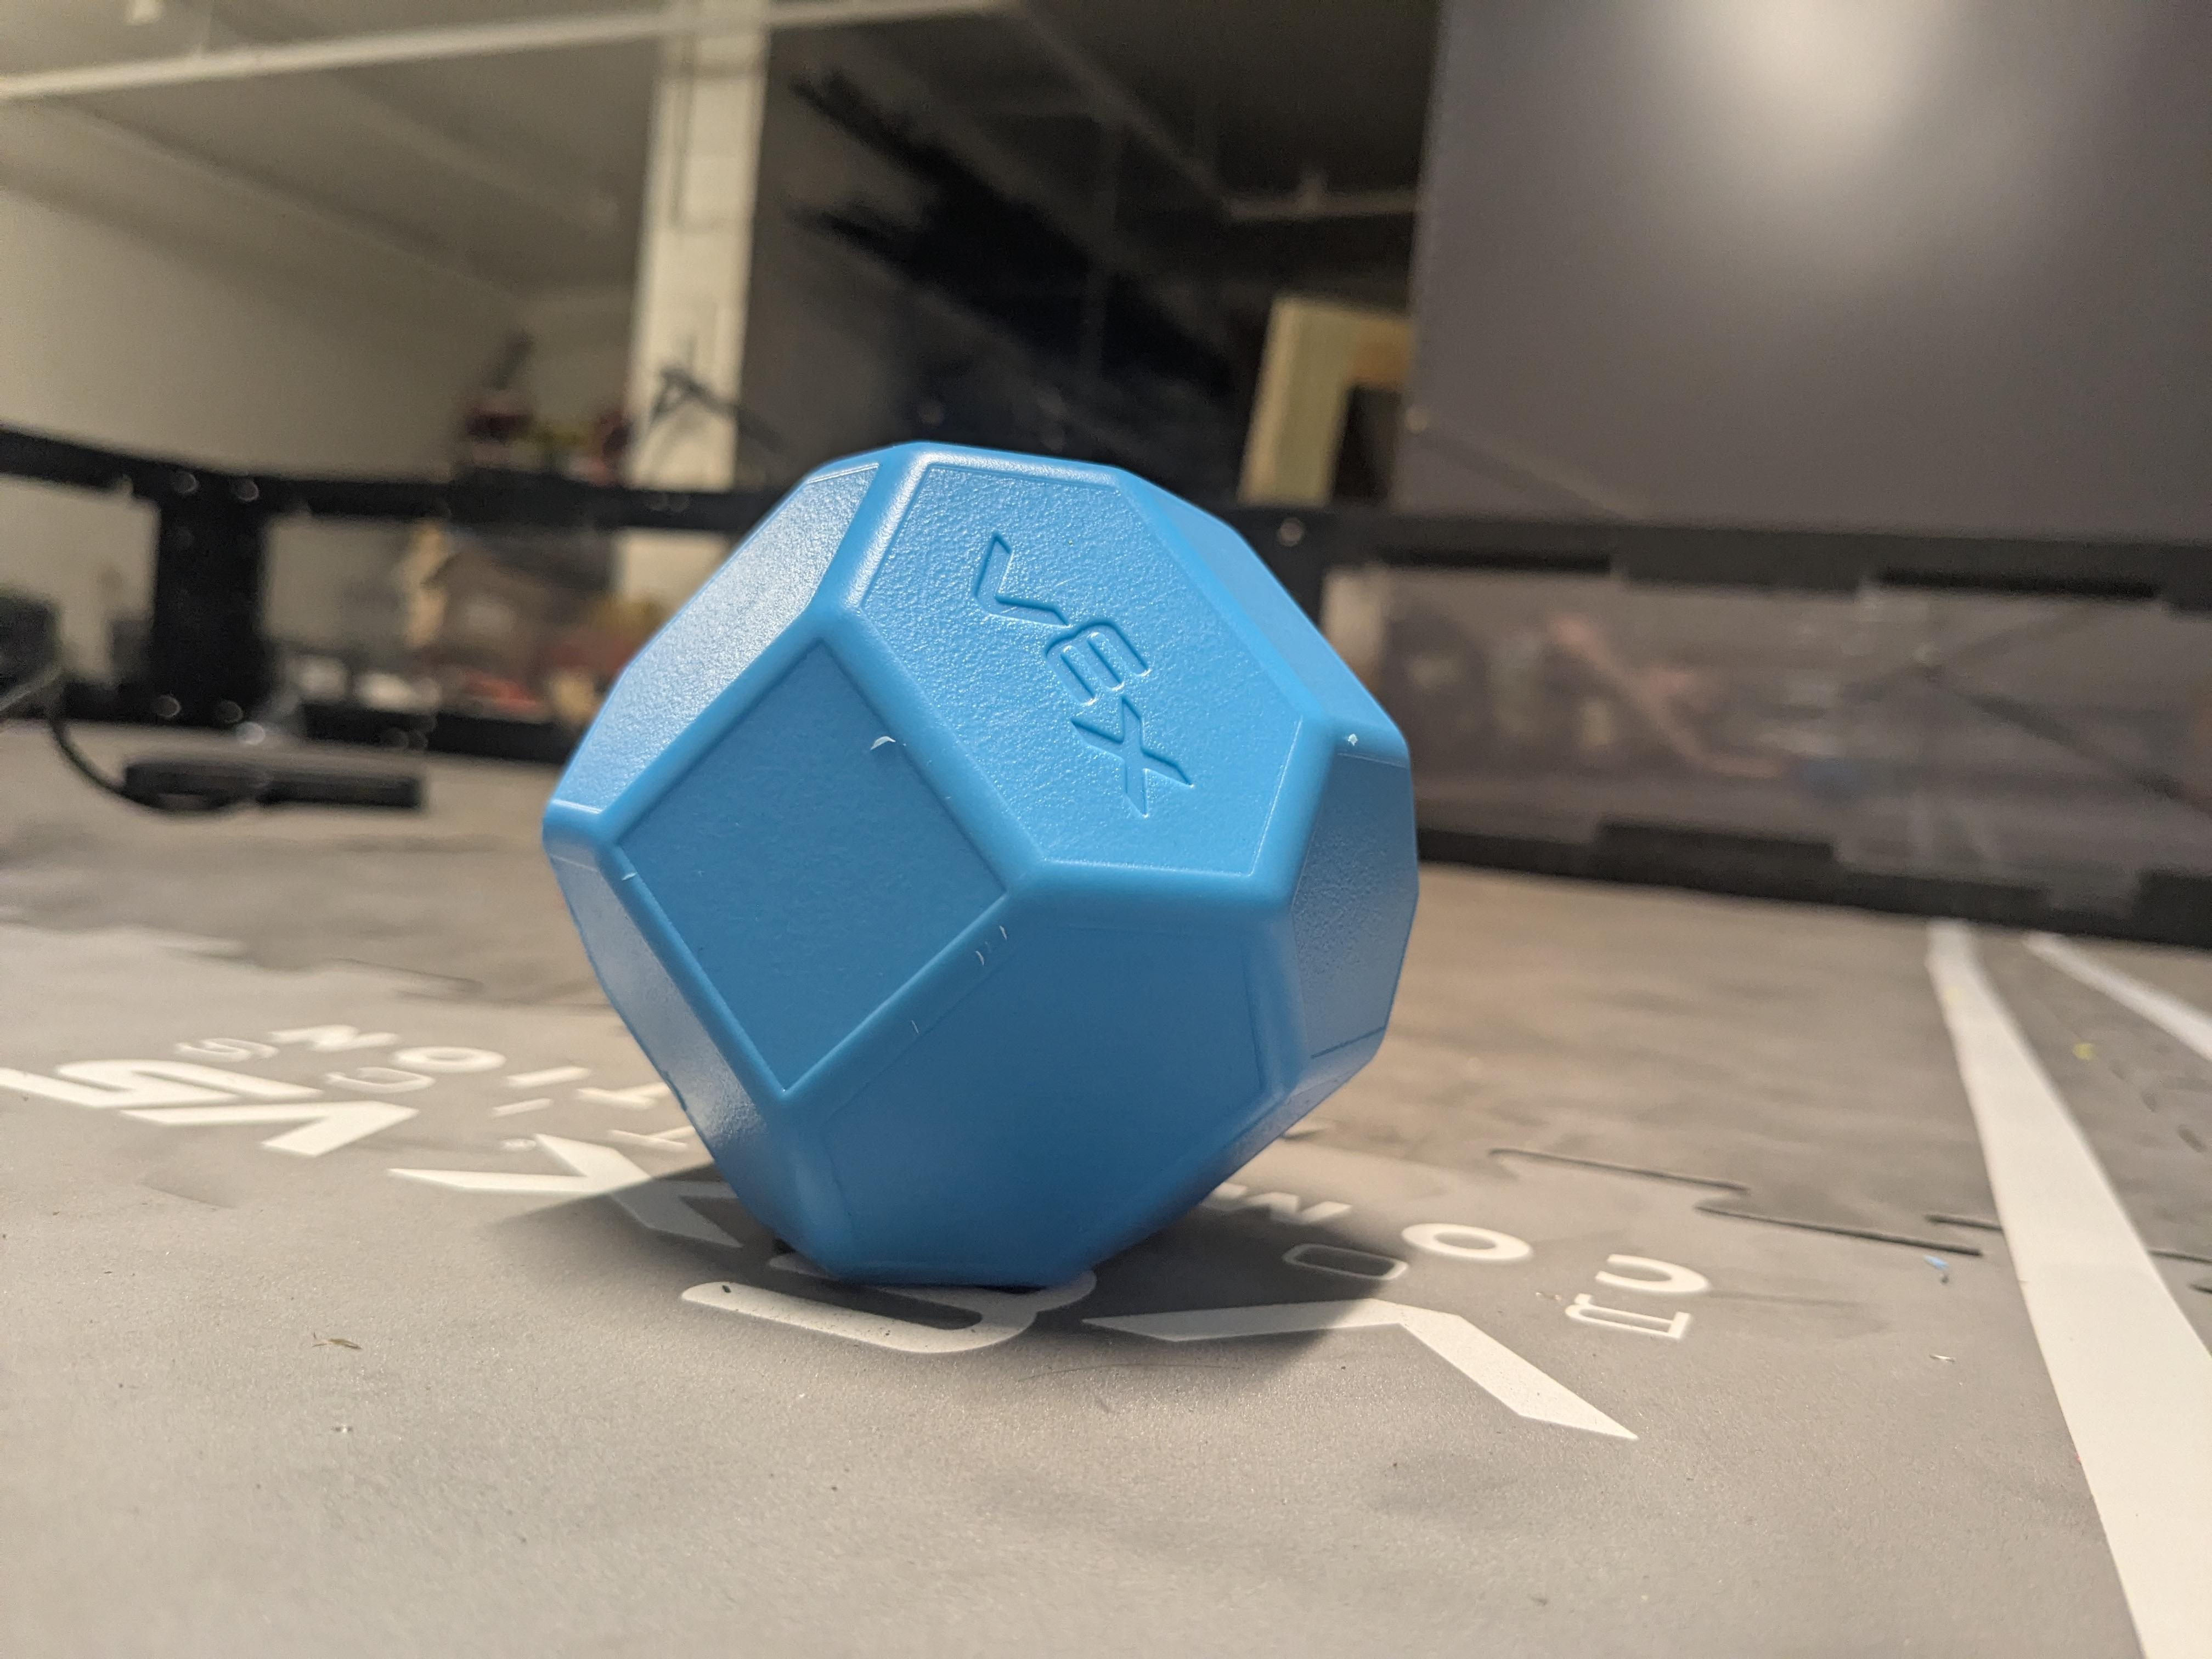Vex-Pieces-BLUE: (543, 443, 1418, 1288)
